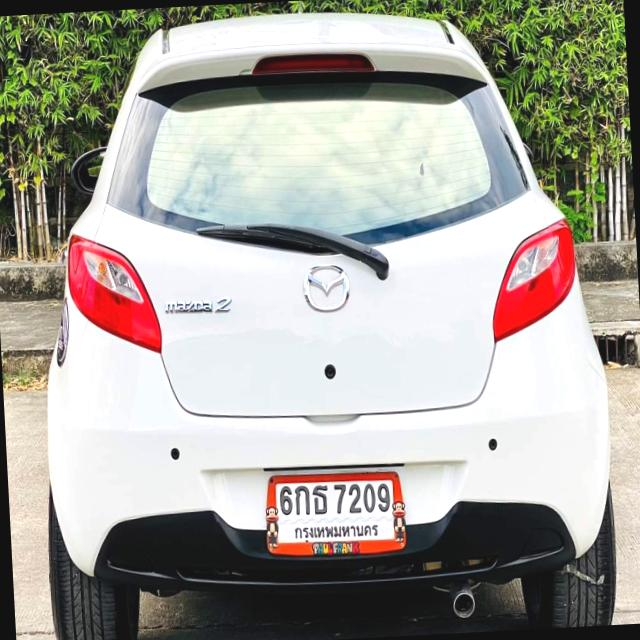license_plate: (262, 458, 408, 565)
